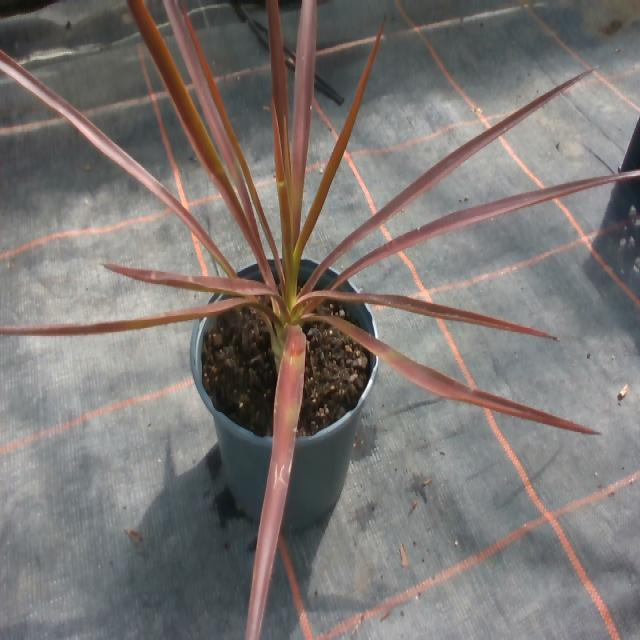Yucca-aloifolia: (312, 71, 590, 284), (0, 51, 230, 273), (339, 169, 639, 283), (312, 315, 600, 433), (128, 0, 256, 248), (183, 9, 281, 275), (163, 0, 258, 237), (294, 21, 383, 256), (245, 327, 305, 639), (302, 289, 554, 337), (0, 299, 265, 333), (105, 264, 276, 296), (292, 0, 314, 239), (266, 0, 287, 160)
